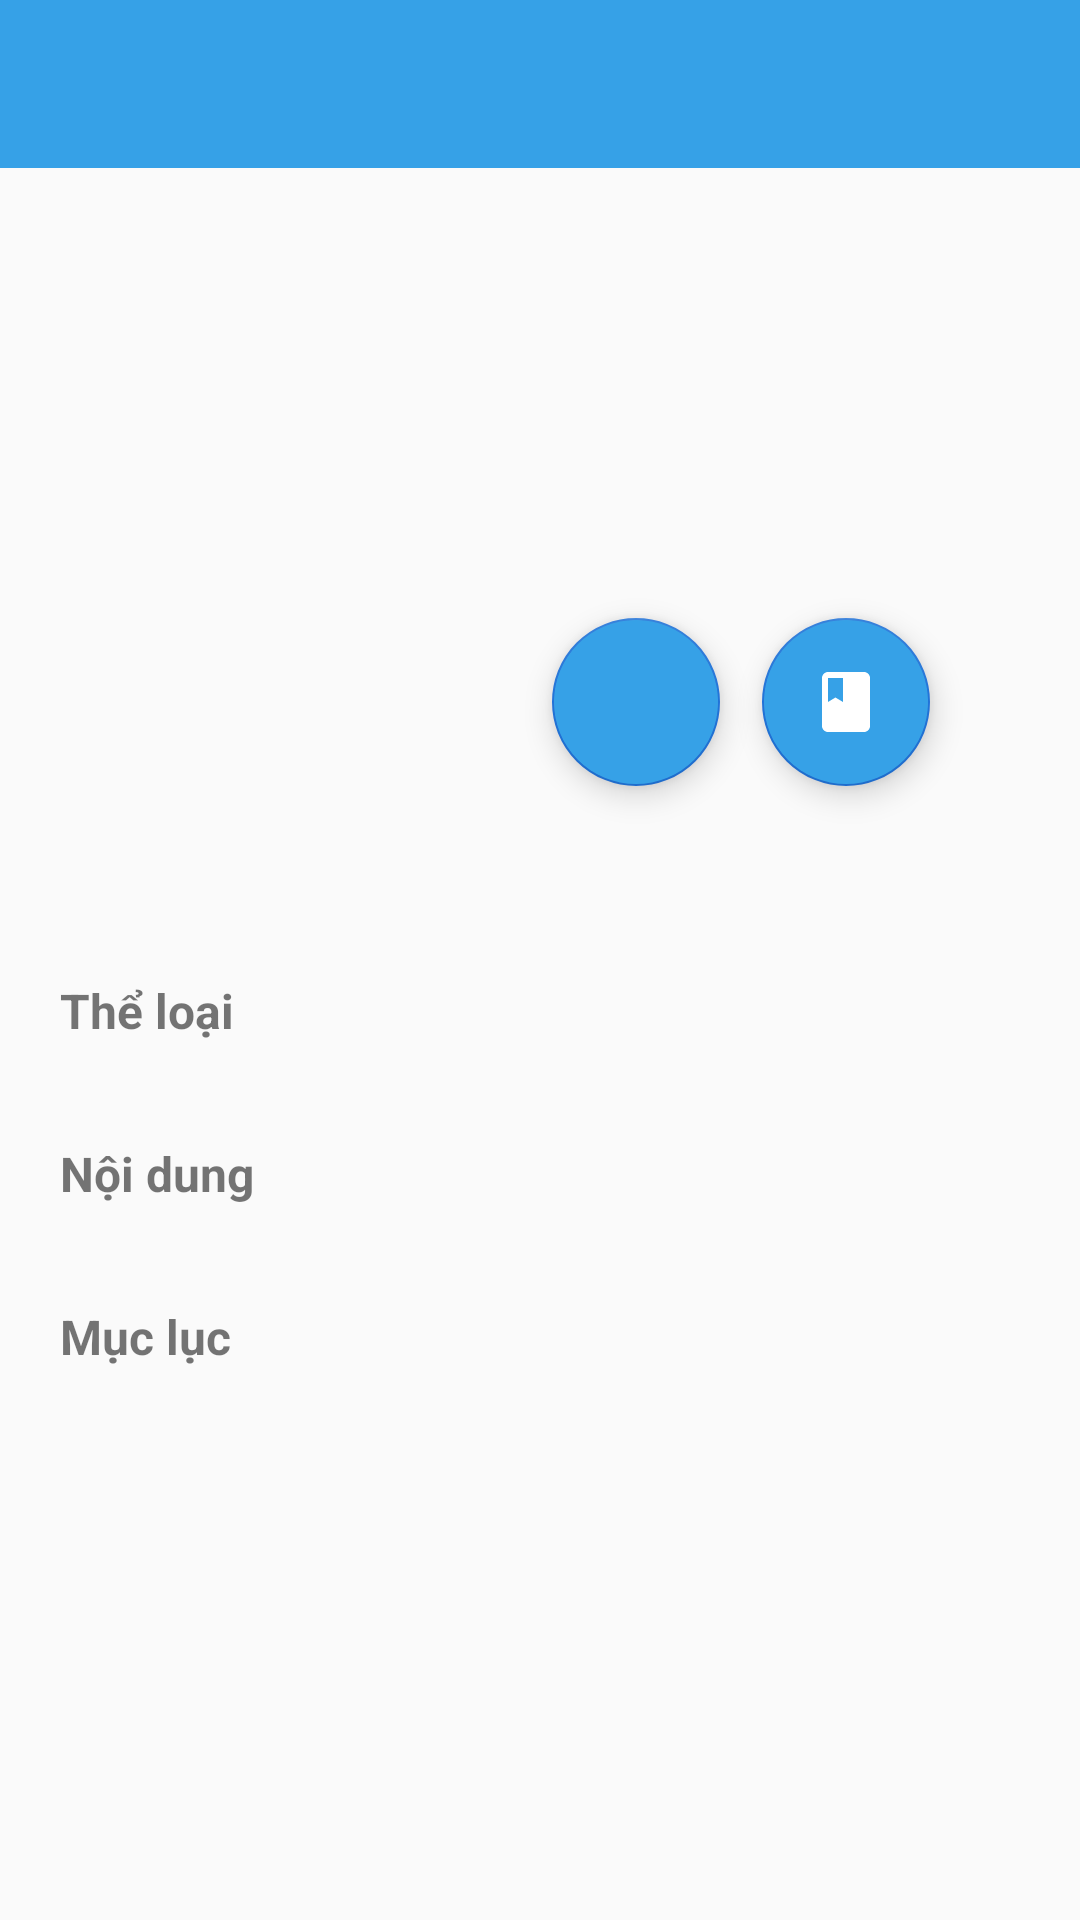

Where icons sit on this 1080 x 1920 app screen, as box(x1, y1, x2, y2):
book: box(762, 618, 930, 786)
